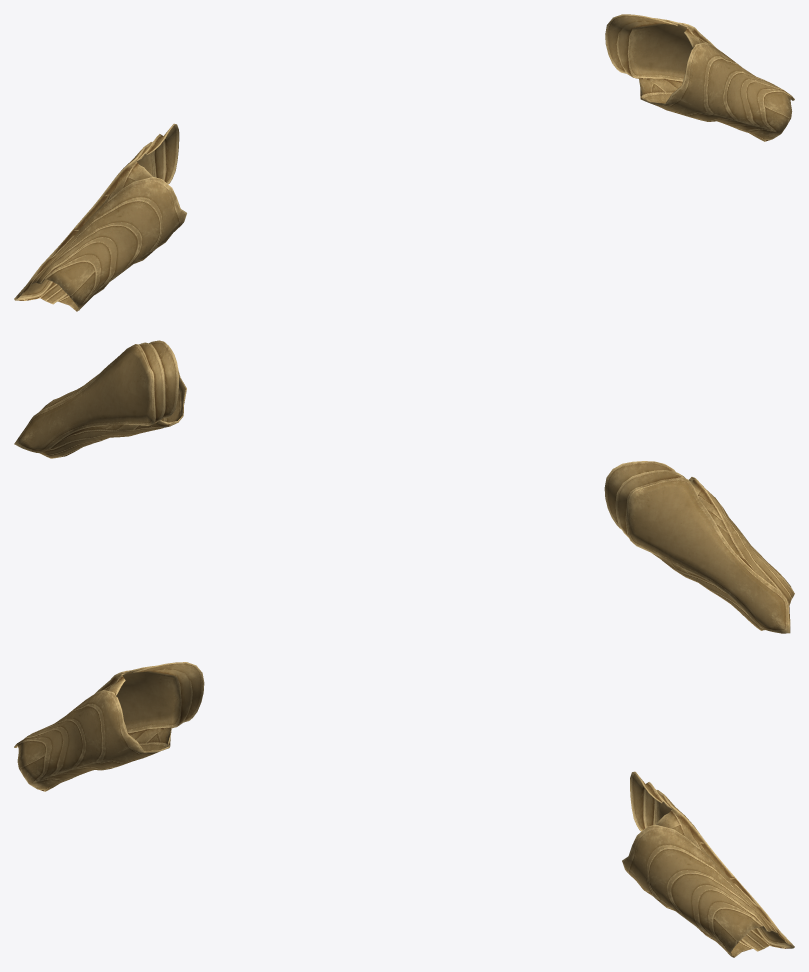
The model's file is rivendell_vambraces_2.fbx.
The picture shows the model from 3 angles, top to bottom: view 1: azimuth 30°, elevation 25°; view 2: azimuth 150°, elevation 25°; view 3: azimuth 330°, elevation 25°; orthographic projection.
Parts seen in each view (by area): view 1: rivendell_vambraces_2; view 2: rivendell_vambraces_2; view 3: rivendell_vambraces_2.
Part boxes in pixels (bbox=[...]): rivendell_vambraces_2: bbox=[14, 14, 794, 311]; rivendell_vambraces_2: bbox=[14, 340, 794, 633]; rivendell_vambraces_2: bbox=[14, 662, 794, 957].
Bounding box in the file's own units: 1.41 × 0.1379 × 0.2498.
Materials: 1 (1 with a texture image).
